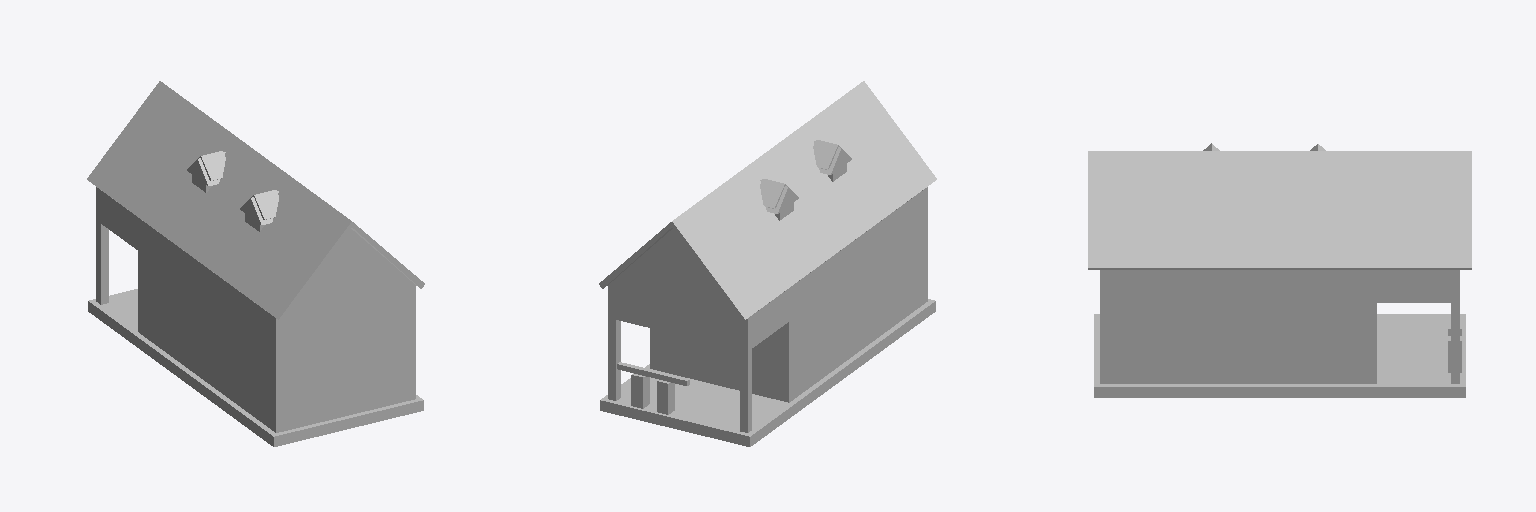
Rendered from house_3.obj.
3 views of the same model, side by side, from view 1: azimuth 30°, elevation 25°; view 2: azimuth 150°, elevation 25°; view 3: azimuth 270°, elevation 25° (orthographic).
Visible parts, largest first — view 1: Cube.067_Cube.081; view 2: Cube.067_Cube.081; view 3: Cube.067_Cube.081.
Boxes of the visible parts, box(x1,y1,x2,y2) form: Cube.067_Cube.081: box(87, 81, 424, 446); Cube.067_Cube.081: box(599, 81, 936, 446); Cube.067_Cube.081: box(1088, 143, 1471, 397).
Size of the model in its own units: 4.44 by 5.94 by 9.84.